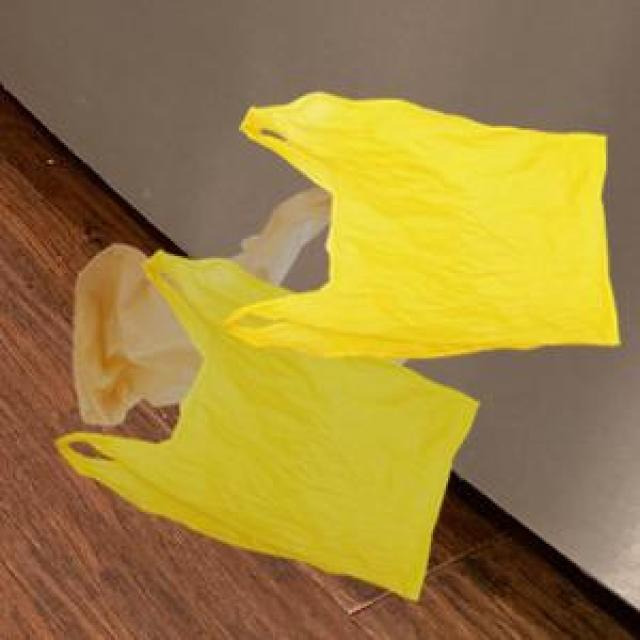Single-layer Plastic: (49, 243, 488, 610), (214, 75, 630, 363), (64, 176, 333, 427)
